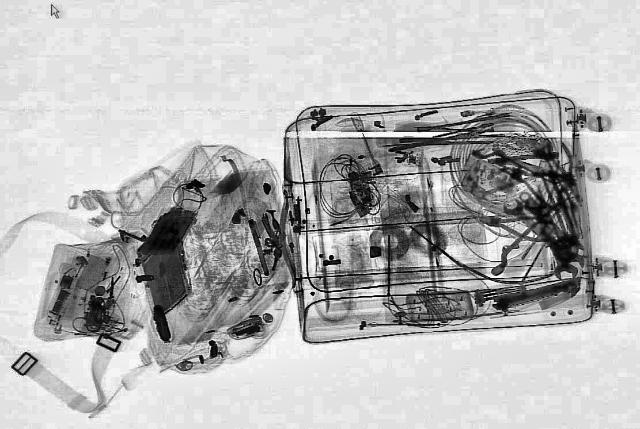Pliers: (538, 138, 590, 202), (472, 208, 550, 242)
Wrench: (495, 196, 591, 272), (514, 190, 588, 269), (521, 200, 581, 280)
